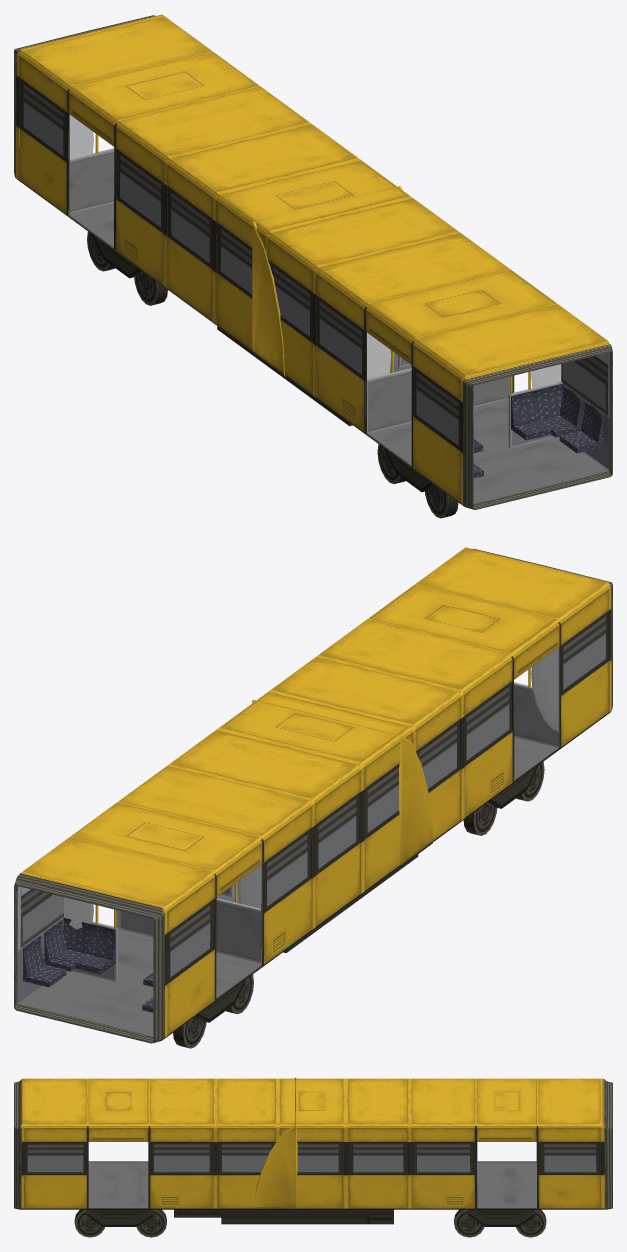
File: Train1.2New.fbx
The picture shows the model from 3 angles, top to bottom: view 1: azimuth 30°, elevation 25°; view 2: azimuth 150°, elevation 25°; view 3: azimuth 270°, elevation 25°; orthographic projection. The views are drawn at different scales.
Parts seen in each view (by area): view 1: TrainMiddleCartV1, TrainMiddleCartV2, TrainFront; view 2: TrainMiddleCartV1, TrainMiddleCartV2, TrainFront; view 3: TrainMiddleCartV1, TrainMiddleCartV2, TrainFront.
Part boxes in pixels (x1,y1,x2,y2): TrainMiddleCartV1: [14, 14, 612, 518]; TrainMiddleCartV2: [15, 15, 612, 509]; TrainFront: [252, 186, 402, 376]; TrainMiddleCartV1: [14, 547, 612, 1048]; TrainMiddleCartV2: [15, 548, 612, 1046]; TrainFront: [252, 699, 433, 866]; TrainMiddleCartV1: [14, 1078, 612, 1237]; TrainMiddleCartV2: [14, 1080, 612, 1227]; TrainFront: [254, 1077, 297, 1209].
Bounding box in the file's own units: 361 × 430 × 1919.
